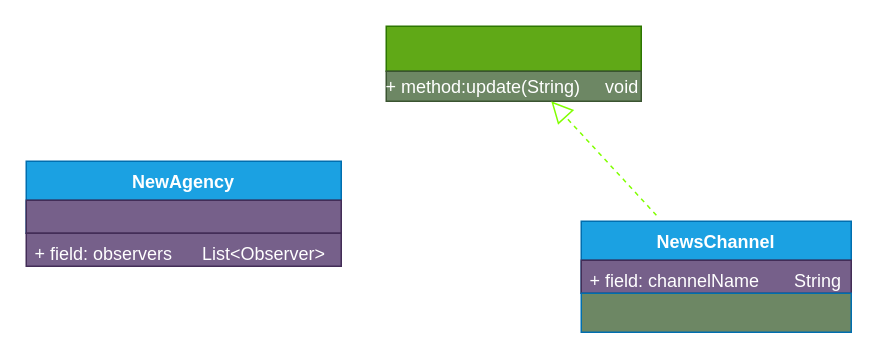
The diagram is 878 pixels wide and 363 high, and some of its shapes have lost their labels. The centre of each missing label's shape, as x and y in pixels:
+ field: news String: point 183,216
+ method: update(String) void: point 715,312
«interface» Observer: point 513,48
